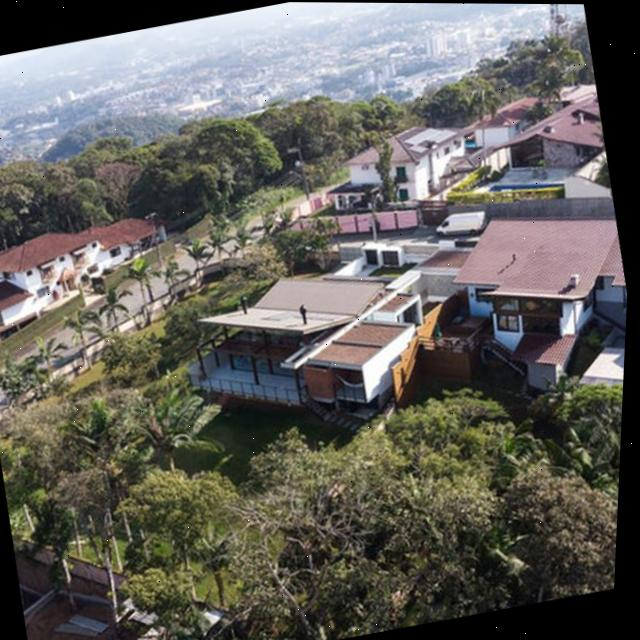building: (173, 215, 464, 439), (432, 175, 632, 437), (462, 72, 620, 232), (299, 105, 479, 241), (0, 195, 173, 331)
